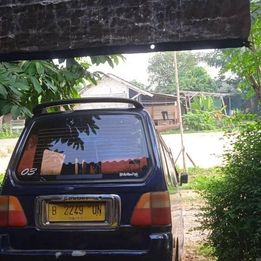plate: (42, 200, 107, 222)
